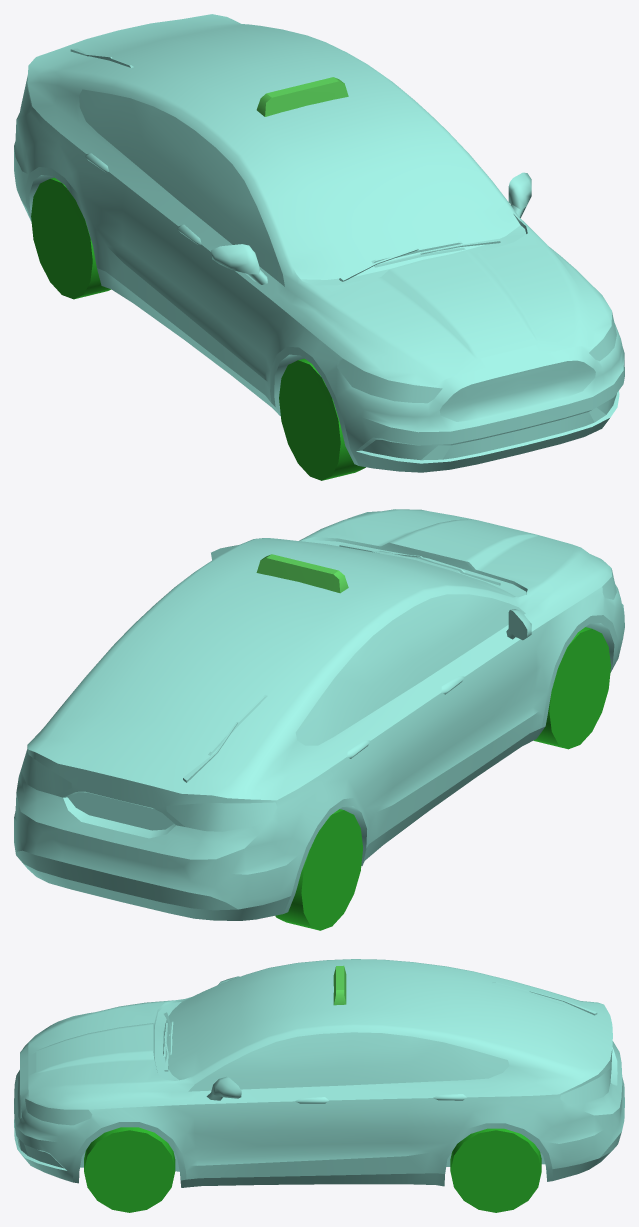
File: taxi.fbx
The picture shows the model from 3 angles, top to bottom: view 1: azimuth 30°, elevation 25°; view 2: azimuth 150°, elevation 25°; view 3: azimuth 270°, elevation 25°; orthographic projection. The views are drawn at different scales.
Parts seen in each view (by area): view 1: Mondeo_Taxi; view 2: Mondeo_Taxi; view 3: Mondeo_Taxi.
Boxes of the visible parts, x1,y1,x2,y2 form: Mondeo_Taxi: [14, 14, 624, 480]; Mondeo_Taxi: [14, 509, 624, 930]; Mondeo_Taxi: [14, 959, 624, 1212].
Size of the model in its own units: 8568 by 6517 by 19369.
